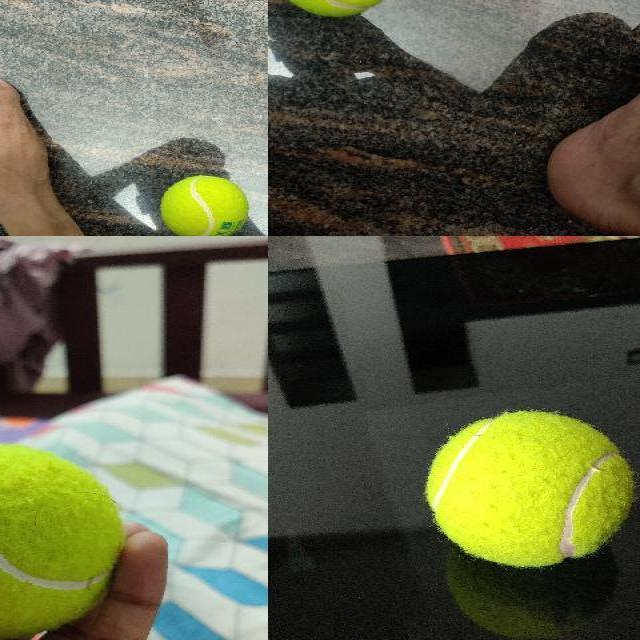tennis-ball: (422, 408, 636, 568), (0, 442, 128, 639), (159, 174, 249, 235)
